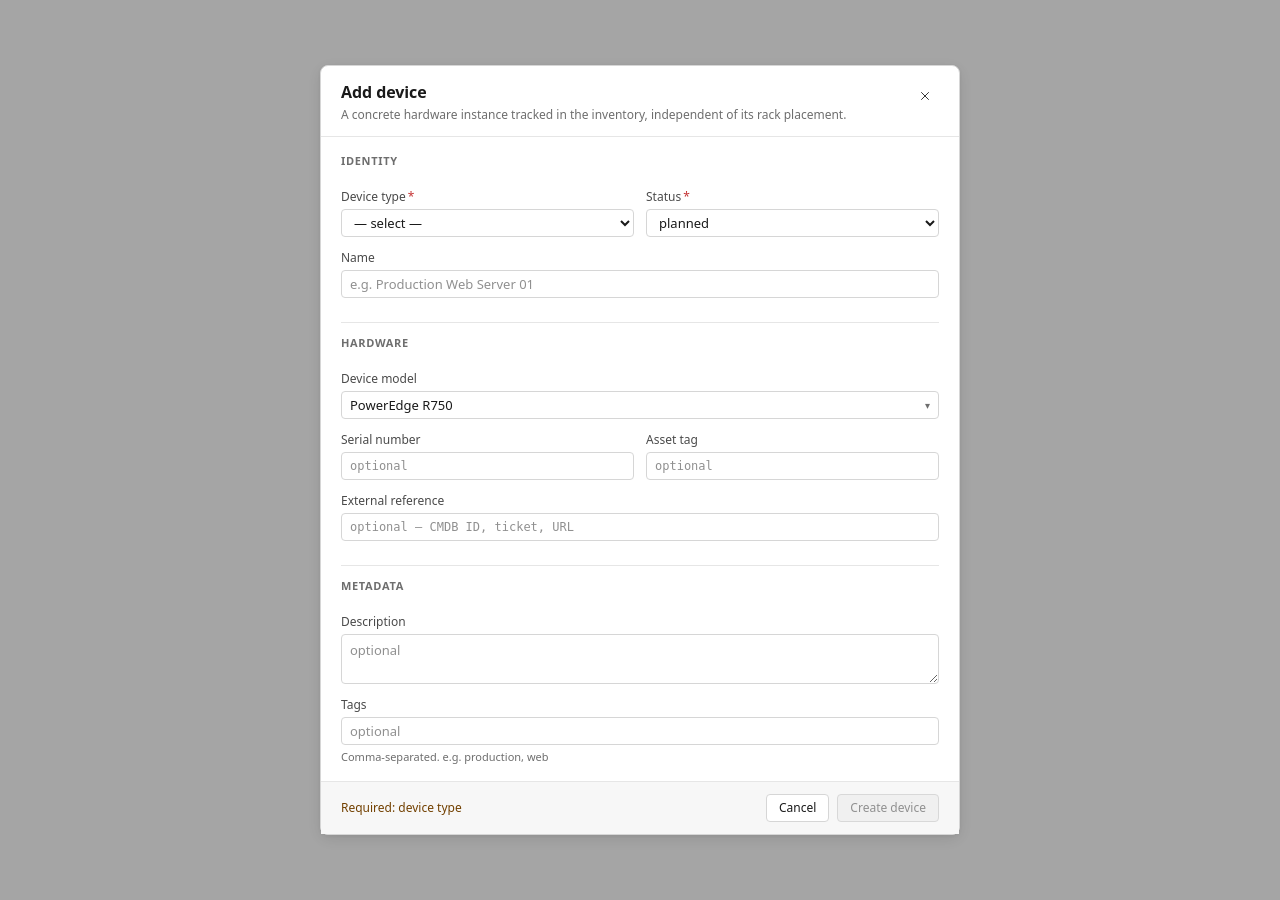
Test: DeviceFormModal — device type auto-fill from model › prefill with deviceModelId: type stays empty on open; re-picking model auto-fills type
The image size is (1280, 900).
Check: the dropdown with test id "field-device-type" shows "— select —", box [341,209,634,237]
Click the button with test id "field-device-model-trigger" at [401, 405], box [341,391,939,419]
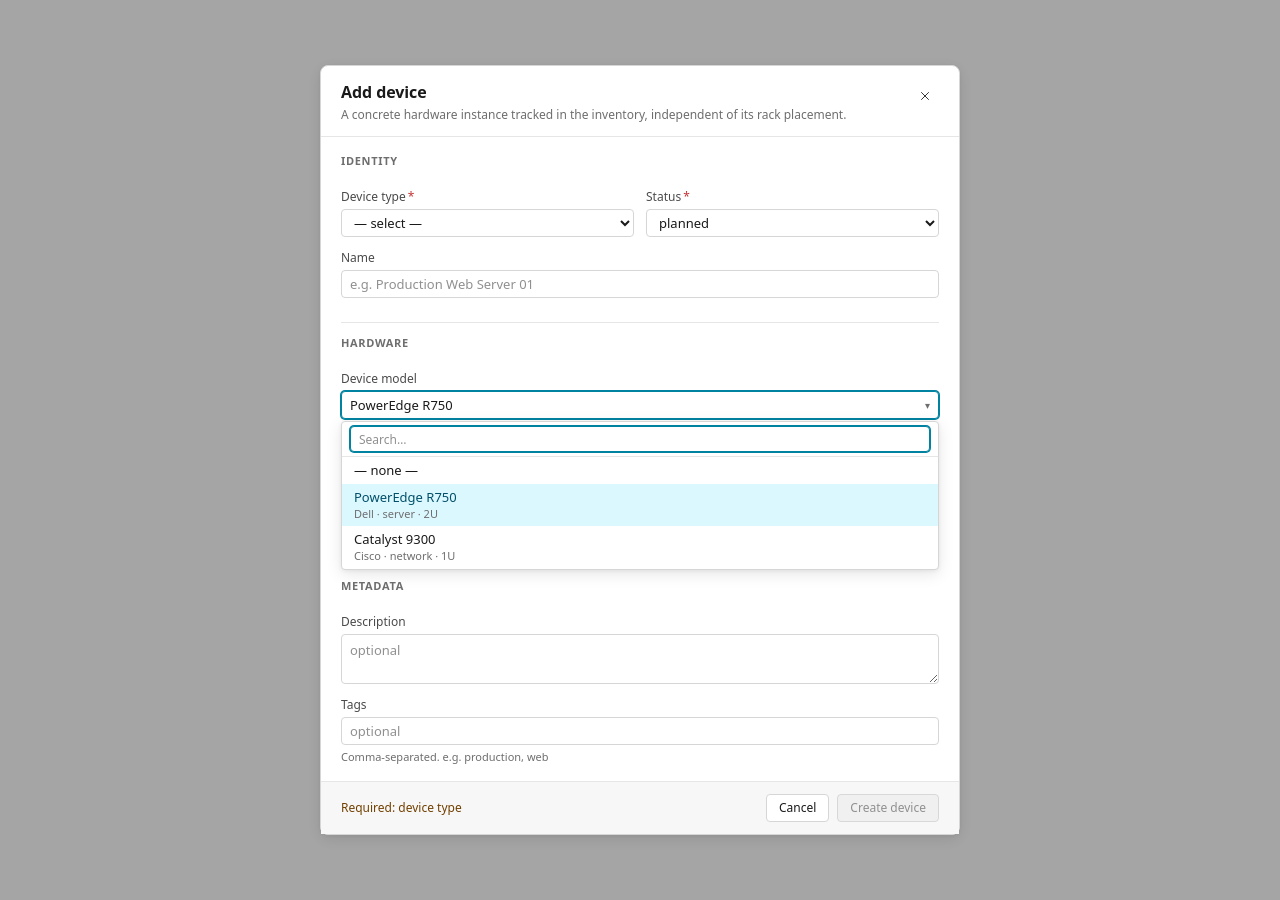
Press the mouse on the option "PowerEdge R750 Dell · server · 2U" at [405, 497], box [342,484,938,526]
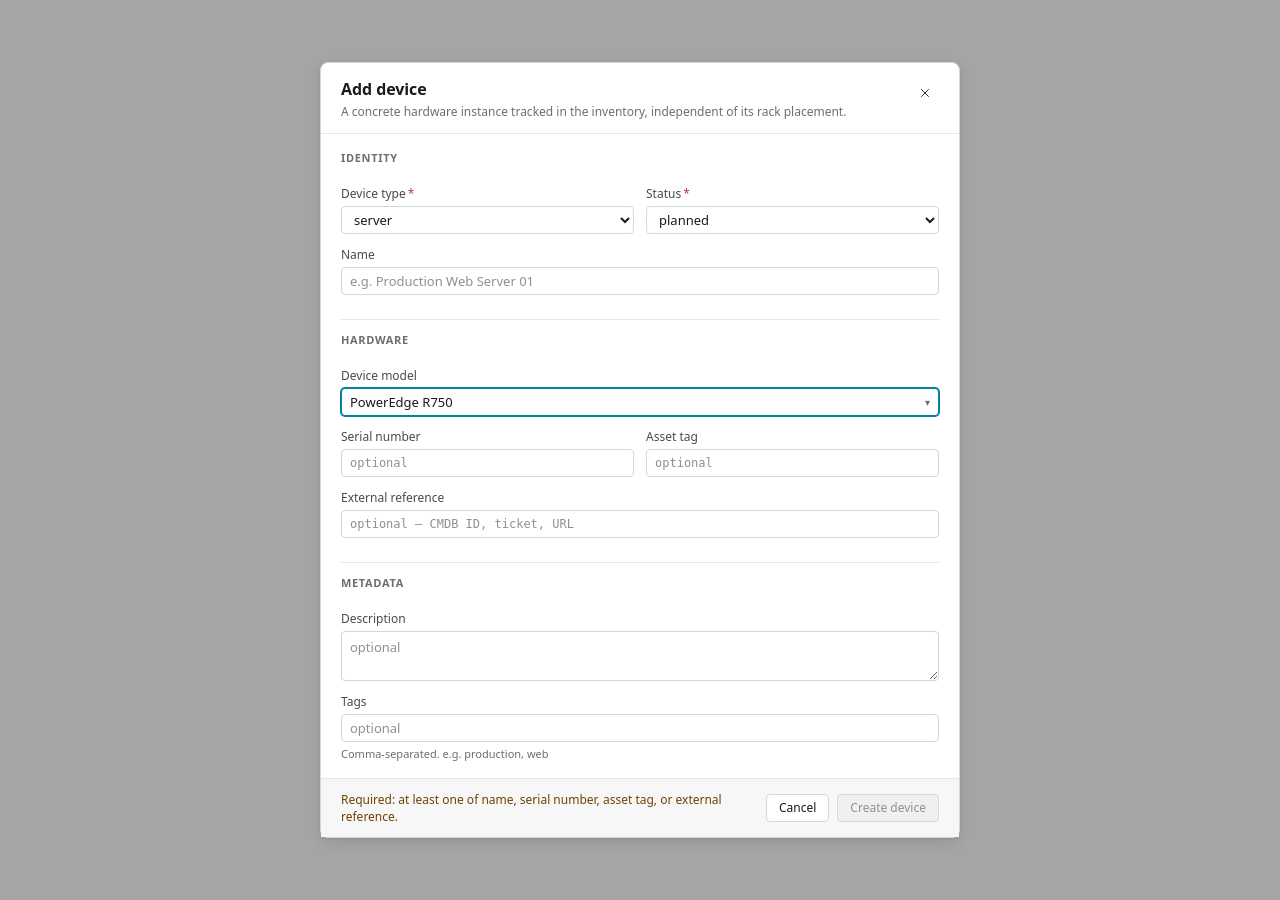
Check: the dropdown with test id "field-device-type" shows "server", box [341,206,634,234]
